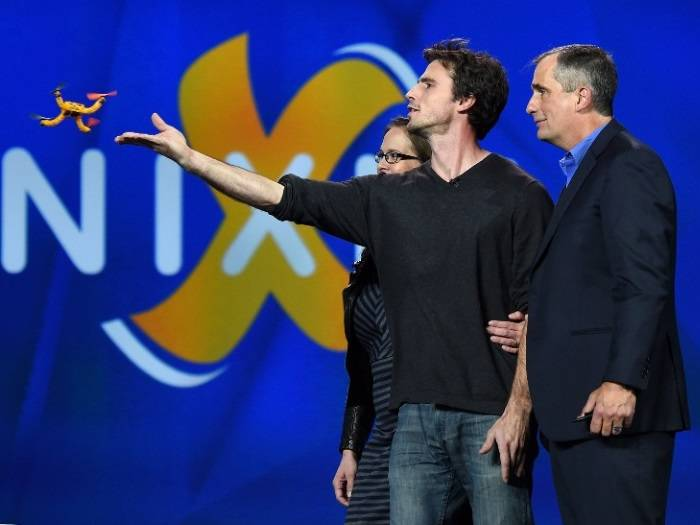drone: (35, 83, 120, 136)
person: (112, 37, 557, 525), (538, 43, 700, 525), (334, 119, 435, 525)
